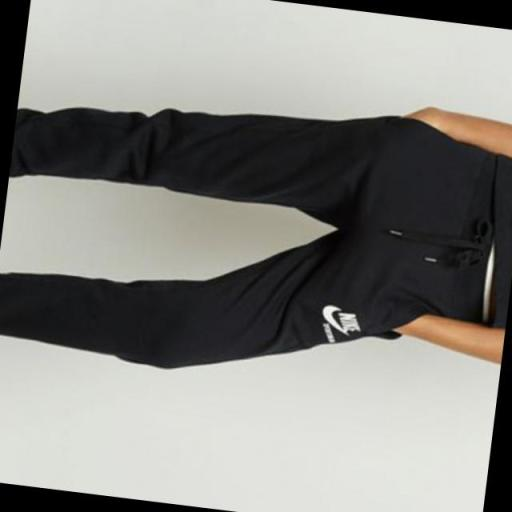Nike: (319, 303, 348, 335), (332, 312, 362, 333)
